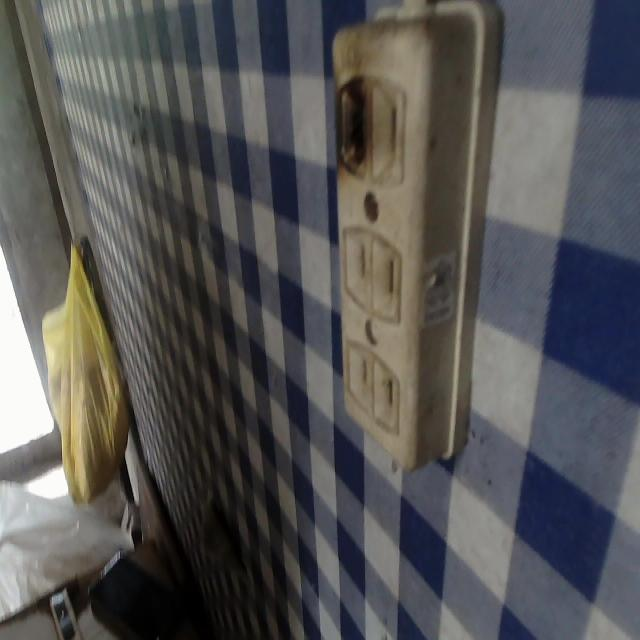-: (331, 68, 377, 181)
